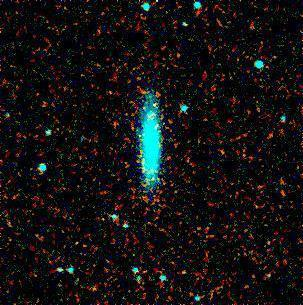star: (134, 89, 164, 119)
